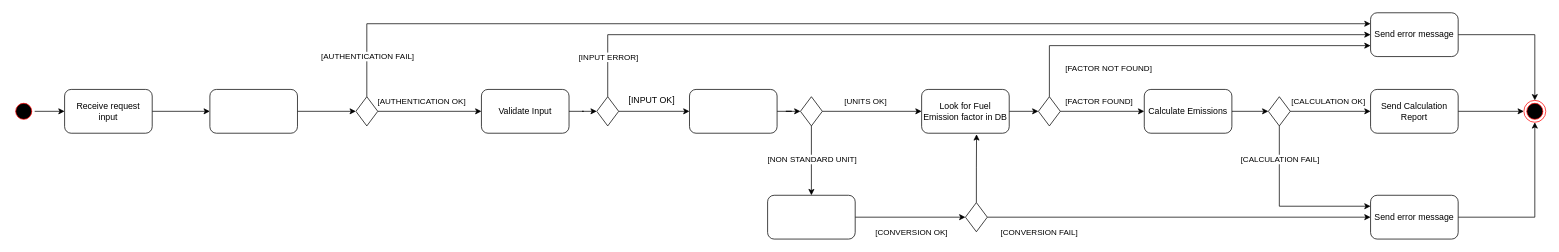
This 1559x252 diagram has some shape labels left out. The shapes that lost their labels are listed below. From the top down, each one's centre as x and y in pixels, then its label:
point 253,111: Authenticate
point 733,111: Check Units
point 811,217: Convert Units
